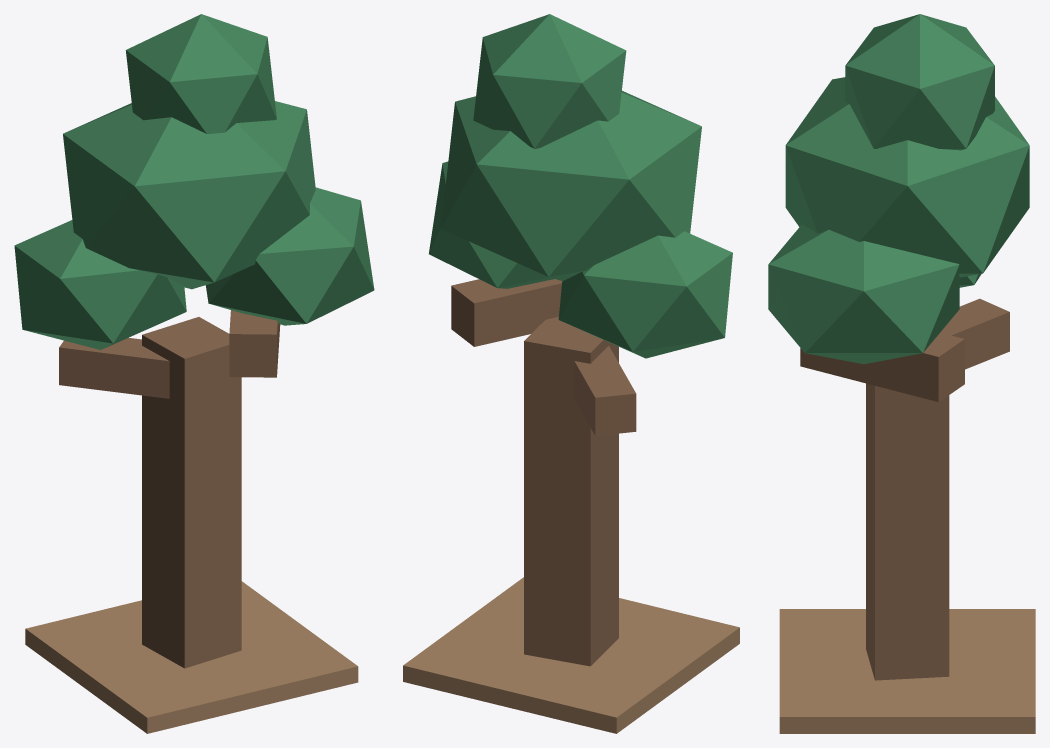
File: tree_blocker_a.glb
3 renders of one model, left to right at view 1: azimuth 30°, elevation 25°; view 2: azimuth 150°, elevation 25°; view 3: azimuth 270°, elevation 25°, orthographic. The views are drawn at different scales.
Visible parts, largest first — view 1: tree_foliage_lump_main, tree_dead_wood_trunk, tree_footprint_base, tree_foliage_lump_left, tree_foliage_lump_top, tree_foliage_lump_right, tree_dead_wood_branch_b, tree_dead_wood_branch_a; view 2: tree_foliage_lump_main, tree_dead_wood_trunk, tree_footprint_base, tree_foliage_lump_left, tree_foliage_lump_top, tree_dead_wood_branch_a, tree_dead_wood_branch_b, tree_foliage_lump_right; view 3: tree_foliage_lump_main, tree_footprint_base, tree_dead_wood_trunk, tree_foliage_lump_right, tree_foliage_lump_top, tree_dead_wood_branch_a, tree_dead_wood_branch_b.
Boxes of the visible parts, box(x1,y1,x2,y2) form: tree_foliage_lump_main: box(63, 101, 315, 289); tree_dead_wood_trunk: box(142, 317, 241, 668); tree_footprint_base: box(25, 581, 358, 733); tree_foliage_lump_left: box(14, 220, 186, 349); tree_foliage_lump_top: box(125, 14, 276, 133); tree_foliage_lump_right: box(205, 187, 374, 325); tree_dead_wood_branch_b: box(59, 337, 169, 398); tree_dead_wood_branch_a: box(229, 310, 280, 377); tree_foliage_lump_main: box(441, 90, 701, 281); tree_dead_wood_trunk: box(524, 316, 618, 666); tree_footprint_base: box(403, 577, 739, 733); tree_foliage_lump_left: box(558, 231, 732, 358); tree_foliage_lump_top: box(473, 14, 626, 148); tree_dead_wood_branch_a: box(451, 279, 562, 346); tree_dead_wood_branch_b: box(574, 346, 636, 435); tree_foliage_lump_right: box(429, 161, 554, 288); tree_foliage_lump_main: box(785, 77, 1029, 277); tree_footprint_base: box(779, 609, 1035, 733); tree_dead_wood_trunk: box(866, 329, 949, 680); tree_foliage_lump_right: box(768, 224, 959, 364); tree_foliage_lump_top: box(845, 14, 994, 150); tree_dead_wood_branch_a: box(800, 332, 964, 402); tree_dead_wood_branch_b: box(943, 298, 1009, 369).
Bounding box in the file's own units: 1.2 × 2.38 × 0.8562.
